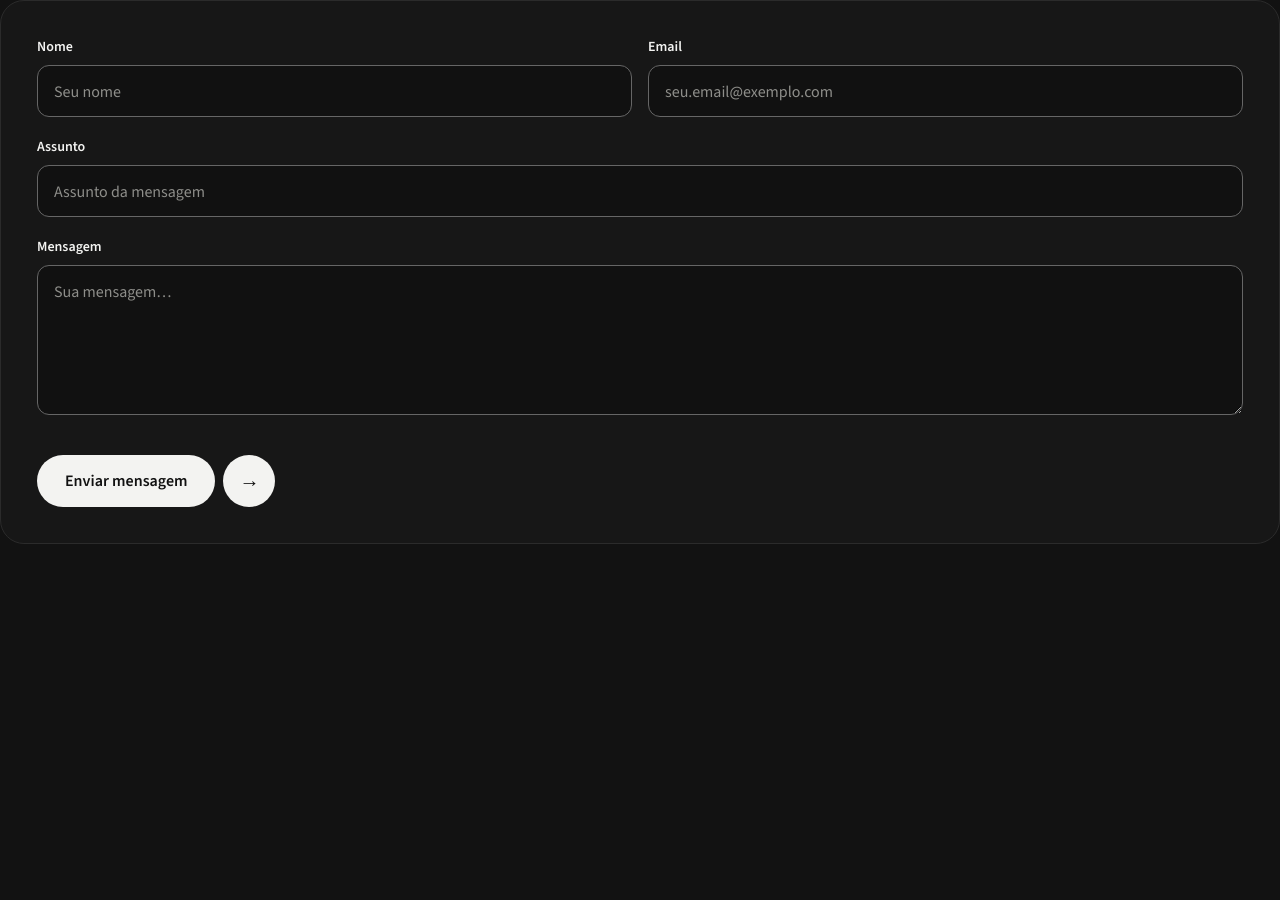
Test: <ContactForm /> › removes the field error once the user types again
Click the button "Enviar mensagem →" at (156, 481), box [37,455,276,507]
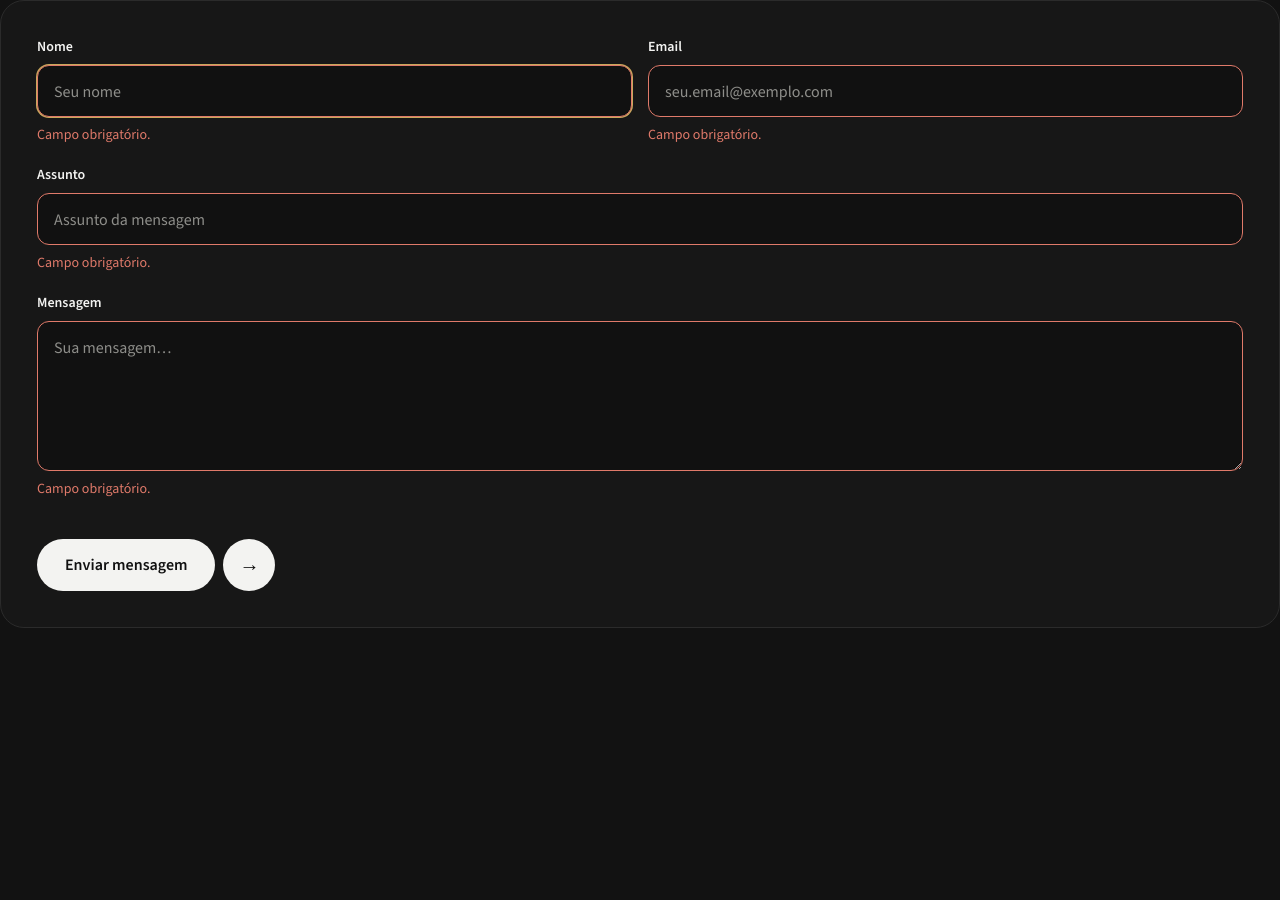
Type "B" into the field labelled "Nome" at (334, 91), box [37,65,632,117]
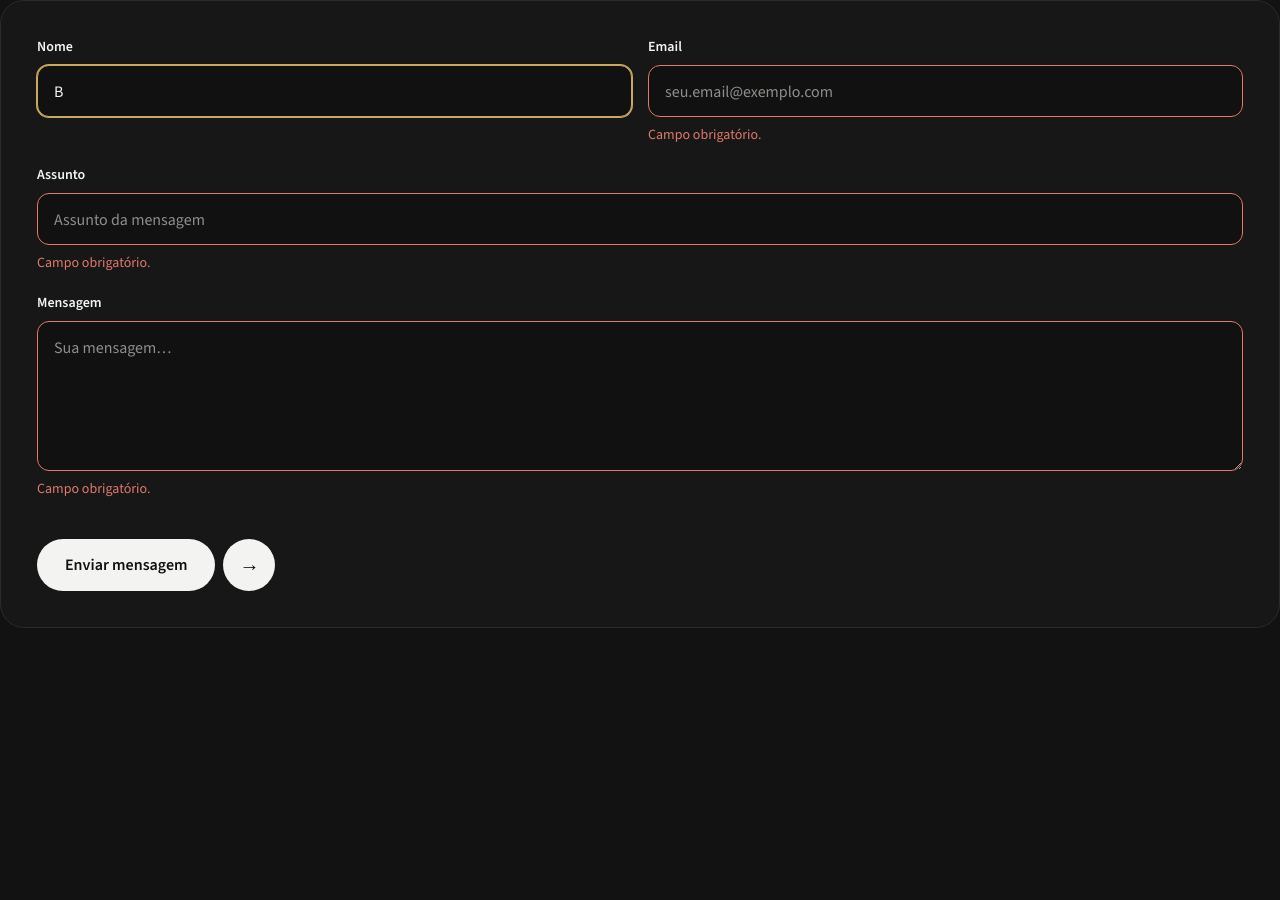
Result: the text with id "name-error" is gone
